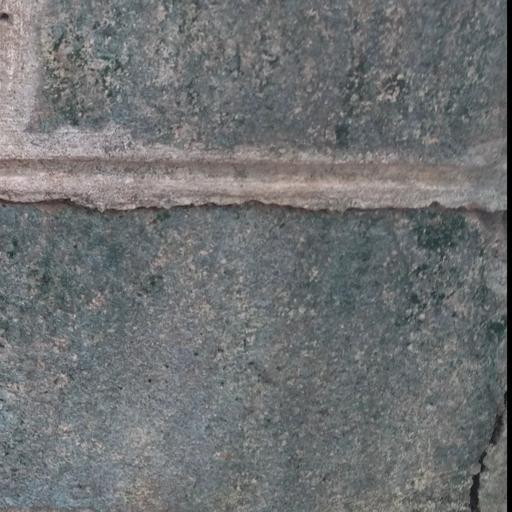algae: (0, 4, 512, 512)
